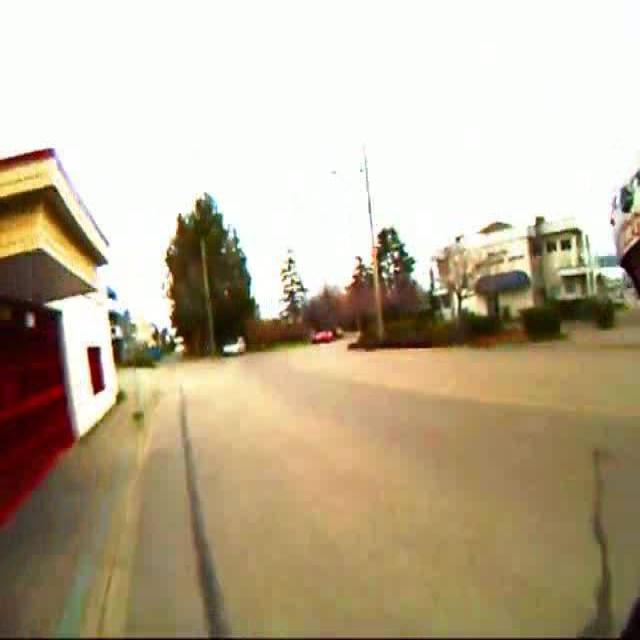other: (92, 196, 180, 343)
